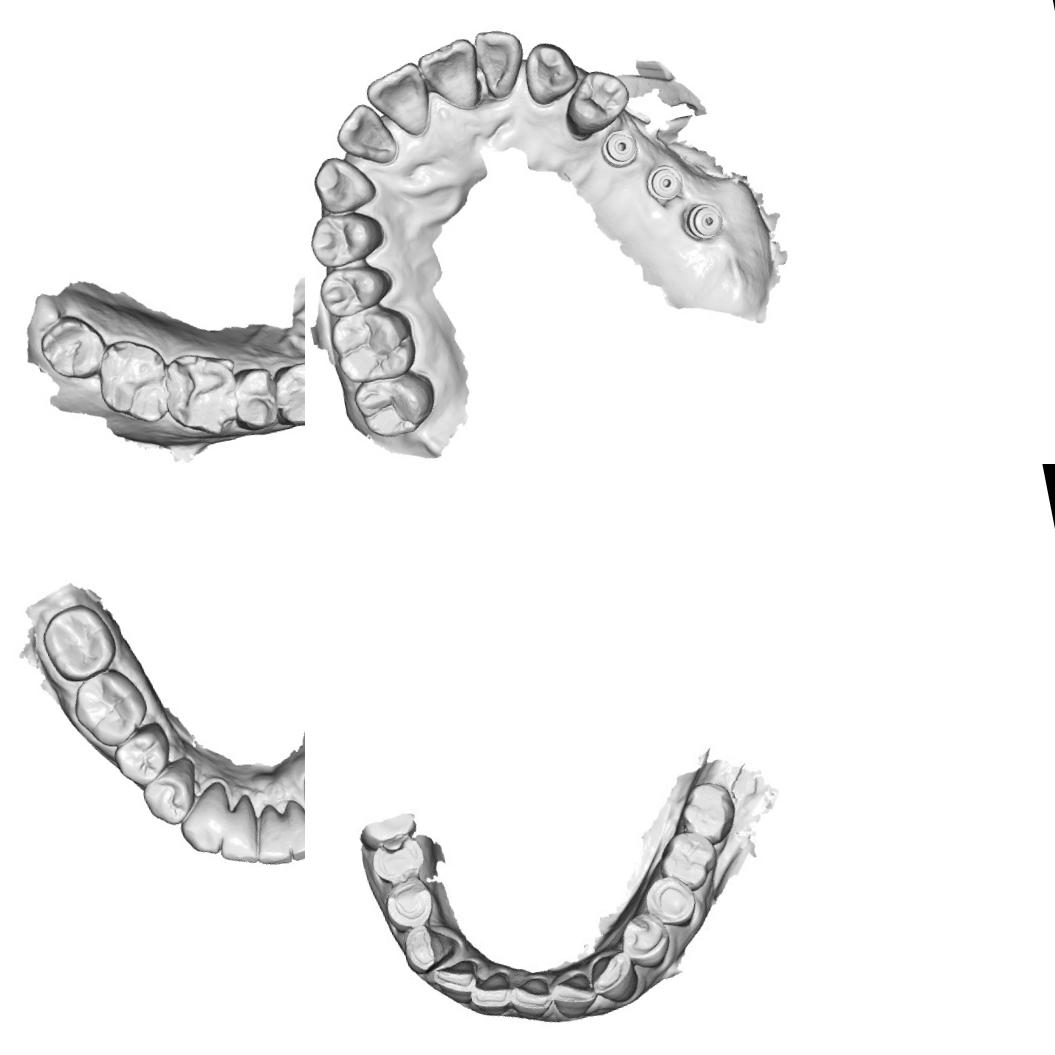canine: (172, 779, 238, 860), (307, 149, 380, 218), (581, 940, 647, 1014), (518, 36, 582, 107), (398, 920, 458, 983)
implant: (596, 125, 642, 172), (680, 198, 726, 244), (640, 158, 686, 204)
incisor: (360, 58, 437, 145), (413, 35, 487, 118), (328, 97, 401, 172), (469, 23, 532, 104), (209, 791, 265, 870), (426, 956, 484, 1014), (246, 800, 294, 870), (498, 971, 560, 1024), (545, 966, 596, 1022), (465, 972, 516, 1024), (279, 795, 305, 862)
molar: (88, 330, 178, 432), (156, 344, 246, 444), (326, 300, 421, 388), (66, 662, 154, 754), (34, 597, 122, 687), (349, 366, 441, 443), (34, 308, 115, 388), (674, 774, 742, 851), (652, 821, 720, 898)
premolar: (556, 64, 636, 143), (305, 202, 388, 270), (314, 257, 397, 320), (137, 754, 205, 829), (108, 718, 176, 790), (640, 870, 700, 940), (366, 830, 431, 891), (229, 362, 284, 433), (618, 910, 672, 974), (380, 880, 438, 937), (265, 356, 305, 432)
